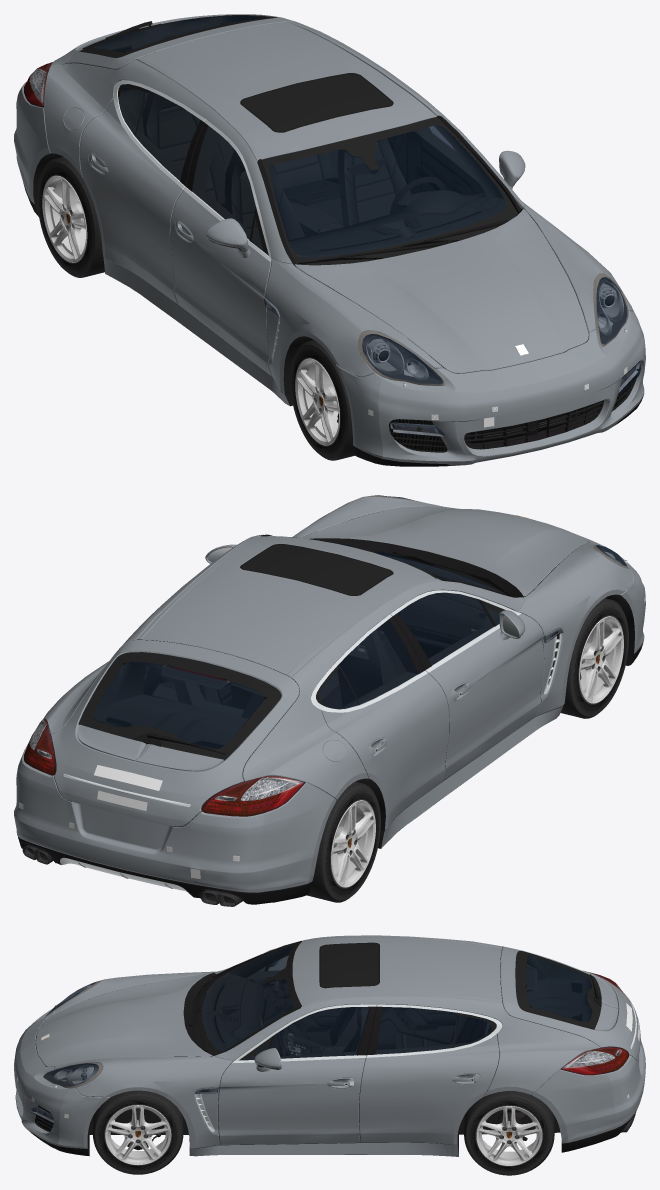
Rendered from car.FBX.
3 renders of one model, top to bottom at view 1: azimuth 30°, elevation 25°; view 2: azimuth 150°, elevation 25°; view 3: azimuth 270°, elevation 25°, orthographic. The views are drawn at different scales.
Visible parts, largest first — view 1: object0, Object01, Object02; view 2: object0, Object01, Object02; view 3: object0, Object01, Object02.
Boxes of the visible parts, x1,y1,x2,y2 form: object0: (14, 14, 645, 466); Object01: (37, 157, 354, 460); Object02: (42, 175, 339, 445); object0: (14, 495, 645, 906); Object01: (307, 598, 628, 902); Object02: (331, 616, 623, 887); object0: (14, 935, 645, 1158); Object01: (93, 1090, 554, 1175); Object02: (105, 1105, 542, 1165).
Size of the model in its own units: 27.29 by 18.18 by 63.87.
Materials: 11 (8 with a texture image).
